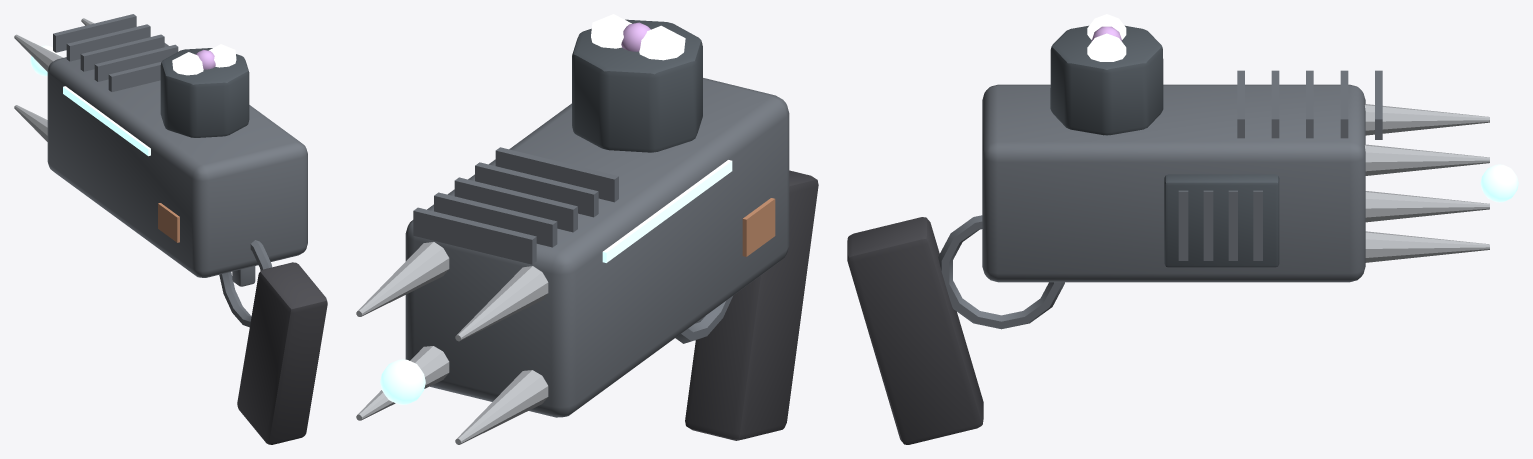
Rendered from ResourceExtractor_T2.fbx.
3 renders of one model, left to right at view 1: azimuth 30°, elevation 25°; view 2: azimuth 150°, elevation 25°; view 3: azimuth 270°, elevation 25°, orthographic. The views are drawn at different scales.
Parts seen in each view (by area): view 1: ResourceExtractor_T2; view 2: ResourceExtractor_T2; view 3: ResourceExtractor_T2.
Part boxes in pixels (box(x1,y1,x2,y2)): ResourceExtractor_T2: box(14, 14, 327, 444); ResourceExtractor_T2: box(356, 14, 818, 444); ResourceExtractor_T2: box(847, 14, 1518, 444).
Size of the model in its own units: 9.8 by 23.73 by 35.06.
